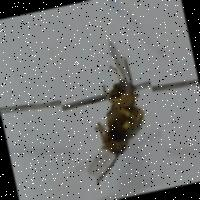Oriental-fruit-fly: (48, 27, 171, 200)
